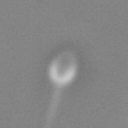normal: (34, 87, 66, 128)
